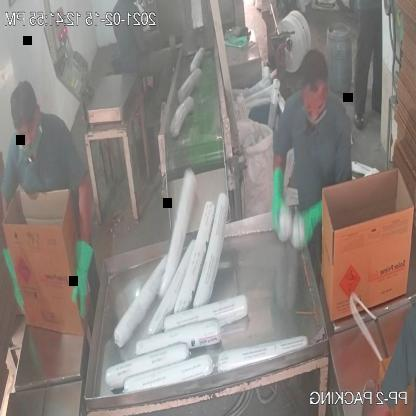glove: (66, 226, 98, 331), (265, 163, 295, 232)
